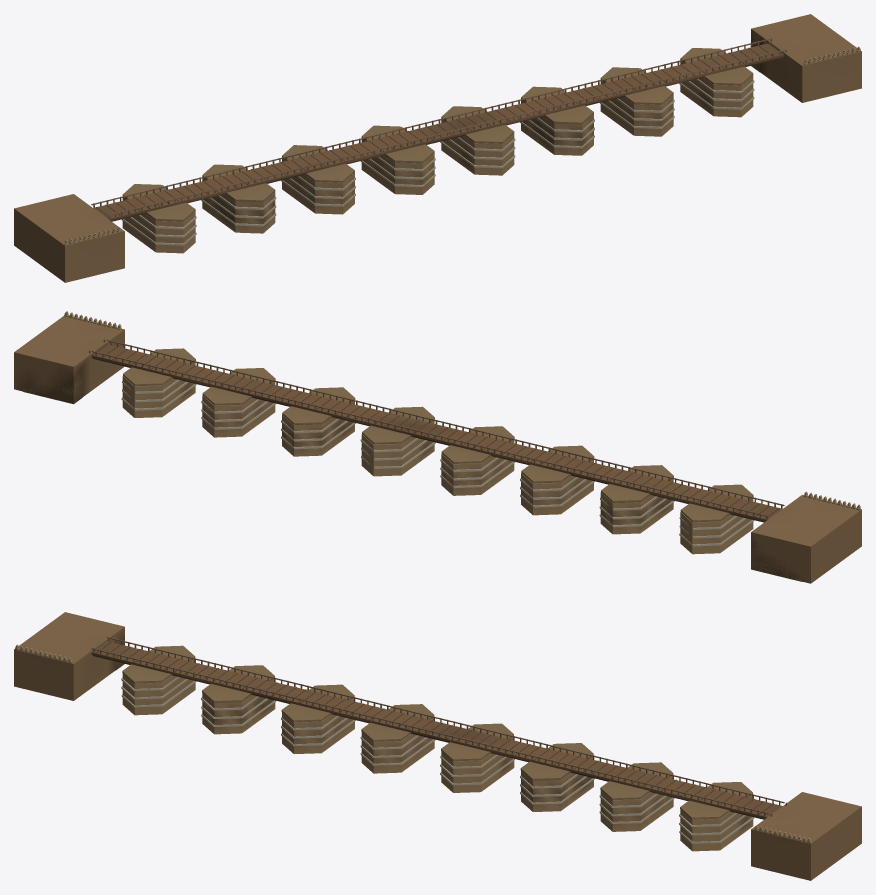
The model's file is bridge.glb.
3 views of the same model, one above another, from view 1: azimuth 30°, elevation 25°; view 2: azimuth 150°, elevation 25°; view 3: azimuth 330°, elevation 25° (orthographic).
Parts seen in each view (by area): view 1: p0_piers, p1_timber deck; view 2: p0_piers, p1_timber deck; view 3: p0_piers, p1_timber deck.
Part boxes in pixels (<box>): p0_piers: <box>14,14,861,282</box>; p1_timber deck: <box>91,38,786,221</box>; p0_piers: <box>14,311,861,583</box>; p1_timber deck: <box>89,339,784,522</box>; p0_piers: <box>14,612,861,880</box>; p1_timber deck: <box>91,637,786,819</box>.
Size of the model in its own units: 180 by 8.99 by 20.
